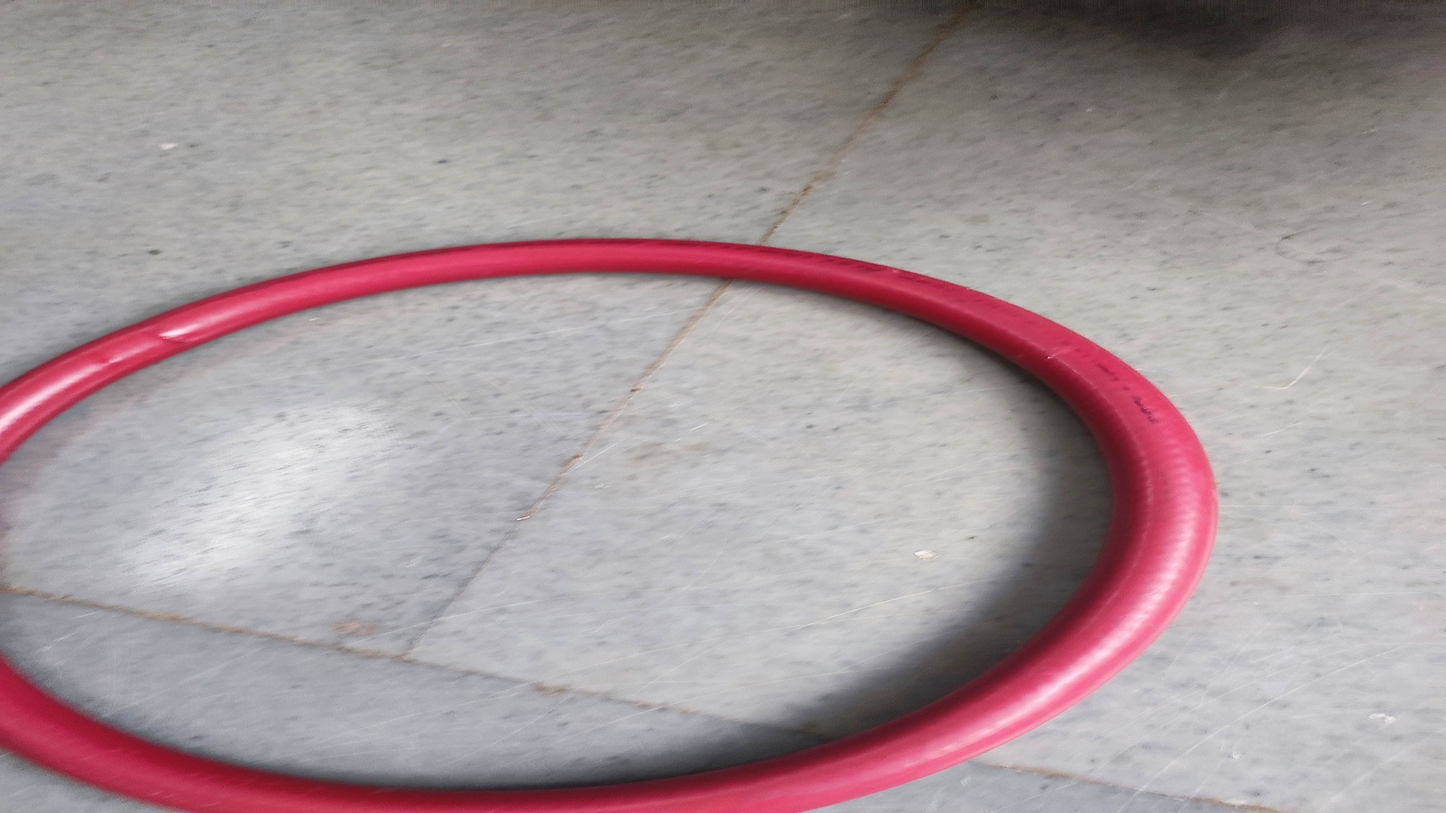Red ring: (11, 236, 1217, 813)
